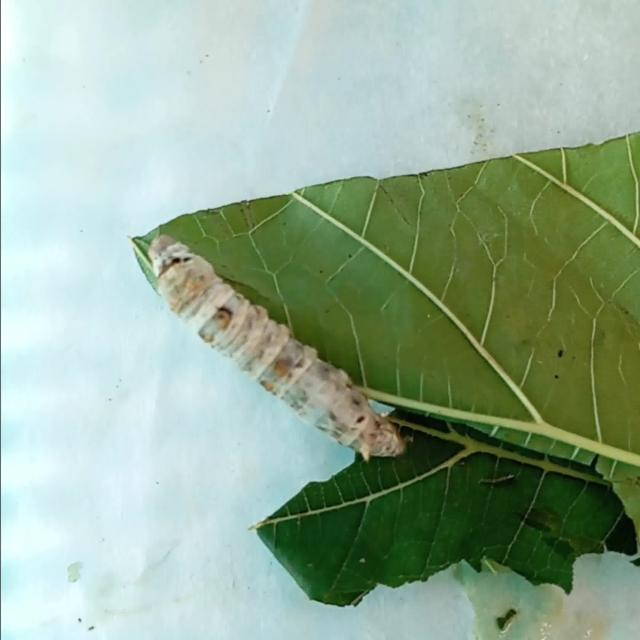Grasserie: (126, 210, 417, 480)
